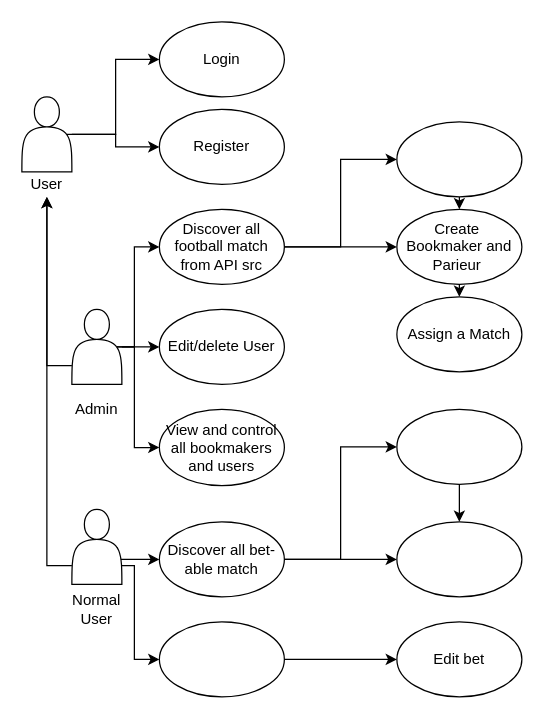
Some shapes in this 544 by 719 pixel diagram are drawn without their labels. Each missing label, with the centre of its shape:
Place bet: (x=459, y=559)
Search a Match: (x=459, y=159)
Search for a match: (x=459, y=446)
View History: (x=221, y=659)
